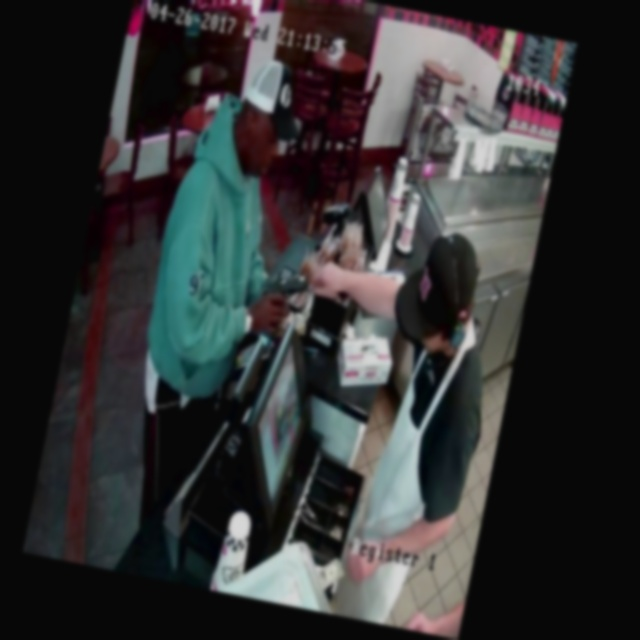gun: (247, 260, 323, 329)
